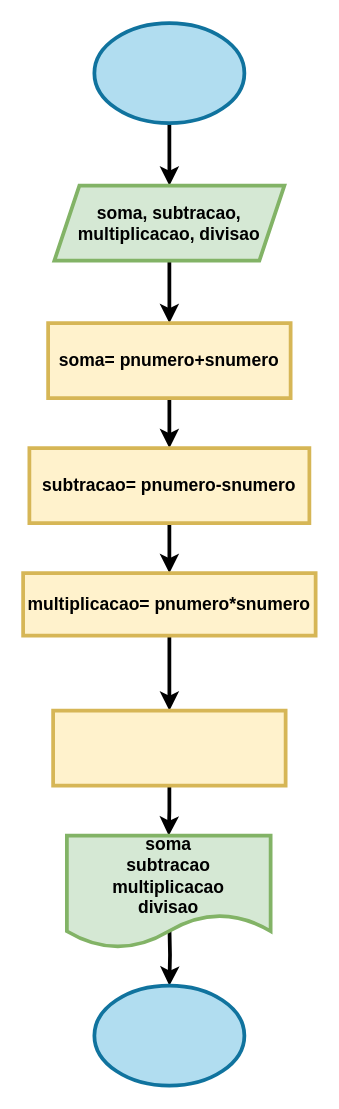
Some shapes in this 339 by 1109 pixel diagram are drawn without their labels. Here are the shapes that lost their labels. From the top down, the centre of each, then its label:
At point 169,72: "Inicio".
At point 169,747: "divisao= pnumero/snumero".
At point 169,1035: "Fim".
